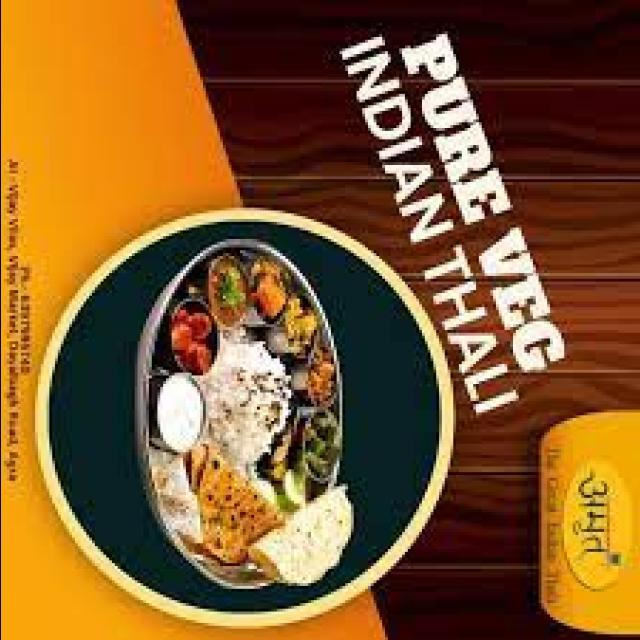dal: (533, 409, 637, 624), (188, 237, 256, 333)
papad: (259, 486, 357, 592)
rice: (185, 343, 353, 518)
roti: (191, 342, 336, 522), (167, 451, 295, 584)
sweet: (150, 285, 220, 377)
